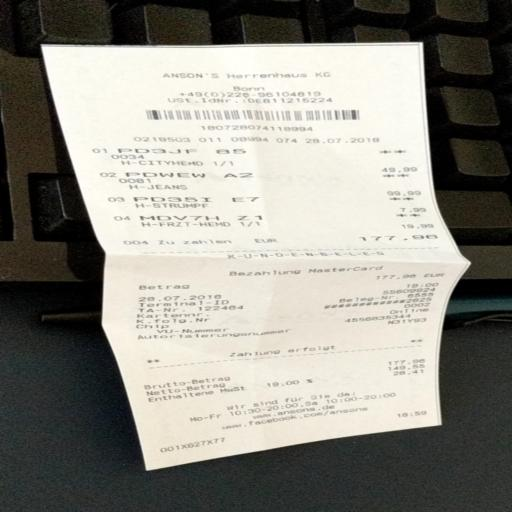paper: (21, 25, 444, 480)
